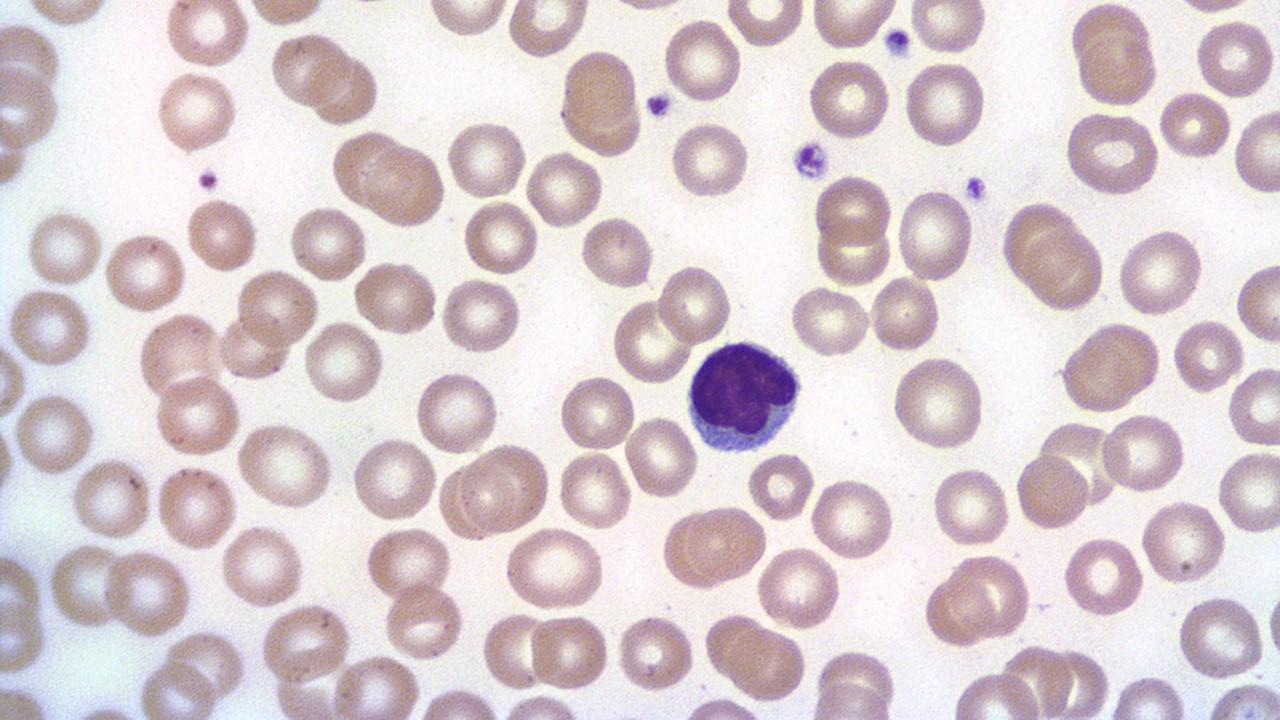Platelets: (786, 137, 832, 183), (882, 26, 914, 60), (642, 90, 674, 122), (962, 172, 989, 204)
RBC: (1057, 321, 1163, 413), (890, 353, 986, 453), (236, 419, 336, 512), (1061, 108, 1163, 199), (501, 525, 607, 611), (460, 443, 552, 536), (135, 312, 226, 406), (1175, 591, 1267, 683), (1115, 224, 1205, 318), (104, 546, 193, 640), (894, 184, 976, 285), (1071, 16, 1161, 108), (1138, 496, 1228, 588), (558, 45, 642, 142), (350, 432, 438, 524), (901, 59, 987, 151), (154, 460, 238, 554), (754, 544, 843, 632), (152, 373, 242, 460), (414, 367, 500, 458), (660, 14, 744, 107), (950, 548, 1034, 640), (302, 316, 386, 408), (1099, 409, 1187, 495), (444, 114, 528, 204), (809, 475, 895, 562), (806, 55, 892, 142), (259, 602, 352, 682), (8, 286, 94, 372), (221, 523, 306, 610), (929, 462, 1013, 550), (103, 230, 188, 316), (14, 387, 97, 475), (610, 295, 692, 384), (48, 542, 129, 632), (362, 524, 455, 602), (156, 70, 240, 156), (364, 142, 447, 229), (1194, 14, 1276, 102), (439, 274, 524, 358), (234, 266, 320, 349), (1023, 226, 1105, 313), (622, 411, 700, 502), (684, 502, 768, 586), (528, 610, 612, 694), (668, 117, 752, 201), (1062, 534, 1144, 620), (351, 257, 438, 338), (69, 456, 152, 540), (524, 146, 605, 232), (1000, 198, 1078, 287), (726, 622, 810, 704), (614, 610, 696, 694), (380, 582, 466, 662), (656, 260, 735, 347), (558, 369, 638, 454), (1012, 449, 1091, 533), (788, 282, 872, 360), (658, 505, 735, 590), (811, 172, 894, 250), (556, 447, 632, 532), (24, 208, 104, 288), (330, 128, 408, 210), (462, 197, 540, 278), (184, 193, 260, 276), (162, 1, 252, 71), (578, 212, 656, 292), (330, 651, 423, 718), (288, 204, 368, 281), (868, 272, 942, 355), (480, 608, 552, 693), (268, 30, 347, 107), (0, 16, 65, 108), (1156, 87, 1234, 162), (1215, 447, 1279, 538), (308, 50, 382, 128), (1170, 317, 1244, 395), (504, 1, 592, 62), (1, 64, 63, 150), (816, 220, 894, 288), (922, 572, 990, 650), (745, 448, 816, 522), (216, 313, 291, 382), (138, 657, 219, 719), (808, 1, 900, 54), (950, 667, 1043, 719), (907, 1, 989, 58), (1226, 364, 1280, 448), (1232, 105, 1280, 197), (724, 1, 808, 50), (1233, 258, 1279, 346), (0, 550, 44, 637), (1106, 673, 1188, 719), (423, 1, 512, 41), (0, 599, 46, 674), (809, 678, 893, 719), (1204, 679, 1280, 719), (0, 331, 27, 426), (243, 0, 330, 29), (0, 113, 31, 193)
WBC: (684, 336, 810, 457)
